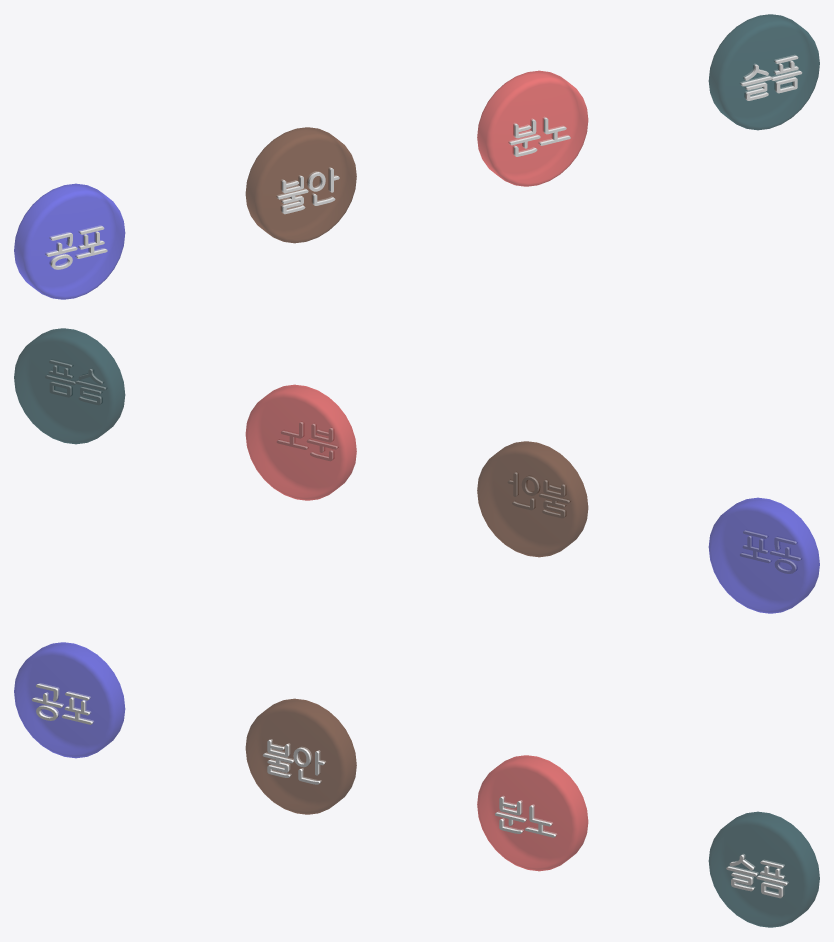
The picture shows the model from 3 angles, top to bottom: view 1: azimuth 30°, elevation 25°; view 2: azimuth 150°, elevation 25°; view 3: azimuth 330°, elevation 25°; orthographic projection.
Visible parts, largest first — view 1: #04_Obj_Circle_003, #04_Obj_Circle_001, #04_Obj_Circle_002, #04_Obj_Circle_004, #04_Obj_Text_004, #04_Obj_Text_002, #04_Obj_Text_001, #04_Obj_Text_003; view 2: #04_Obj_Circle_002, #04_Obj_Circle_003, #04_Obj_Circle_001, #04_Obj_Circle_004, #04_Obj_Text_004, #04_Obj_Text_002, #04_Obj_Text_001, #04_Obj_Text_003; view 3: #04_Obj_Circle_003, #04_Obj_Circle_001, #04_Obj_Circle_002, #04_Obj_Circle_004, #04_Obj_Text_004, #04_Obj_Text_002, #04_Obj_Text_001, #04_Obj_Text_003.
Boxes of the visible parts, x1=… form: #04_Obj_Circle_003: x1=477, y1=70, x2=588, y2=186; #04_Obj_Circle_001: x1=14, y1=183, x2=125, y2=299; #04_Obj_Circle_002: x1=245, y1=127, x2=356, y2=243; #04_Obj_Circle_004: x1=708, y1=14, x2=819, y2=130; #04_Obj_Text_004: x1=740, y1=54, x2=802, y2=100; #04_Obj_Text_002: x1=276, y1=167, x2=339, y2=214; #04_Obj_Text_001: x1=45, y1=225, x2=107, y2=269; #04_Obj_Text_003: x1=508, y1=116, x2=570, y2=156; #04_Obj_Circle_002: x1=477, y1=441, x2=588, y2=557; #04_Obj_Circle_003: x1=245, y1=384, x2=356, y2=500; #04_Obj_Circle_001: x1=708, y1=497, x2=819, y2=613; #04_Obj_Circle_004: x1=14, y1=328, x2=125, y2=444; #04_Obj_Text_004: x1=45, y1=359, x2=106, y2=405; #04_Obj_Text_002: x1=507, y1=471, x2=570, y2=518; #04_Obj_Text_001: x1=740, y1=530, x2=801, y2=573; #04_Obj_Text_003: x1=277, y1=421, x2=338, y2=461; #04_Obj_Circle_003: x1=477, y1=755, x2=588, y2=871; #04_Obj_Circle_001: x1=14, y1=642, x2=125, y2=758; #04_Obj_Circle_002: x1=245, y1=698, x2=356, y2=814; #04_Obj_Circle_004: x1=708, y1=811, x2=819, y2=927; #04_Obj_Text_004: x1=726, y1=853, x2=788, y2=898; #04_Obj_Text_002: x1=262, y1=739, x2=326, y2=784; #04_Obj_Text_001: x1=31, y1=683, x2=93, y2=724; #04_Obj_Text_003: x1=495, y1=795, x2=557, y2=837.
Bounding box in the file's own units: 3440 × 110 × 440.
